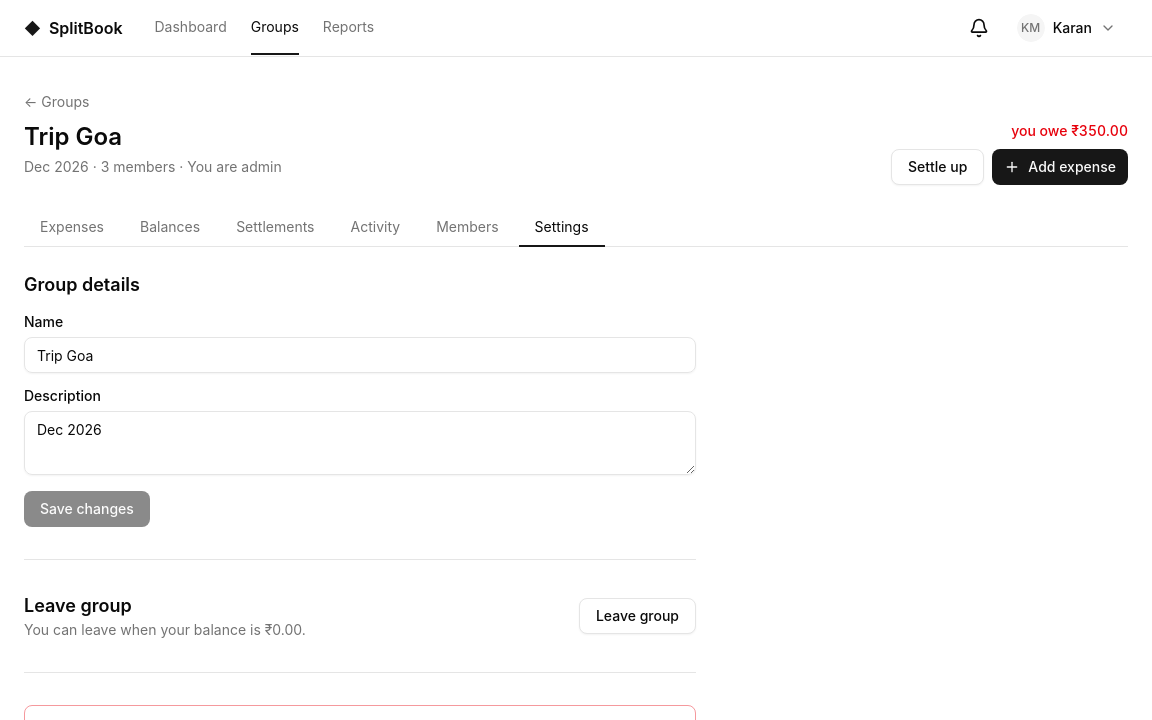
§6–§7 group, members, leave, delete › admin leave → transfer blocked while balance is not zero
Click the button "Leave group" at (637, 616), box [579,598,696,634]
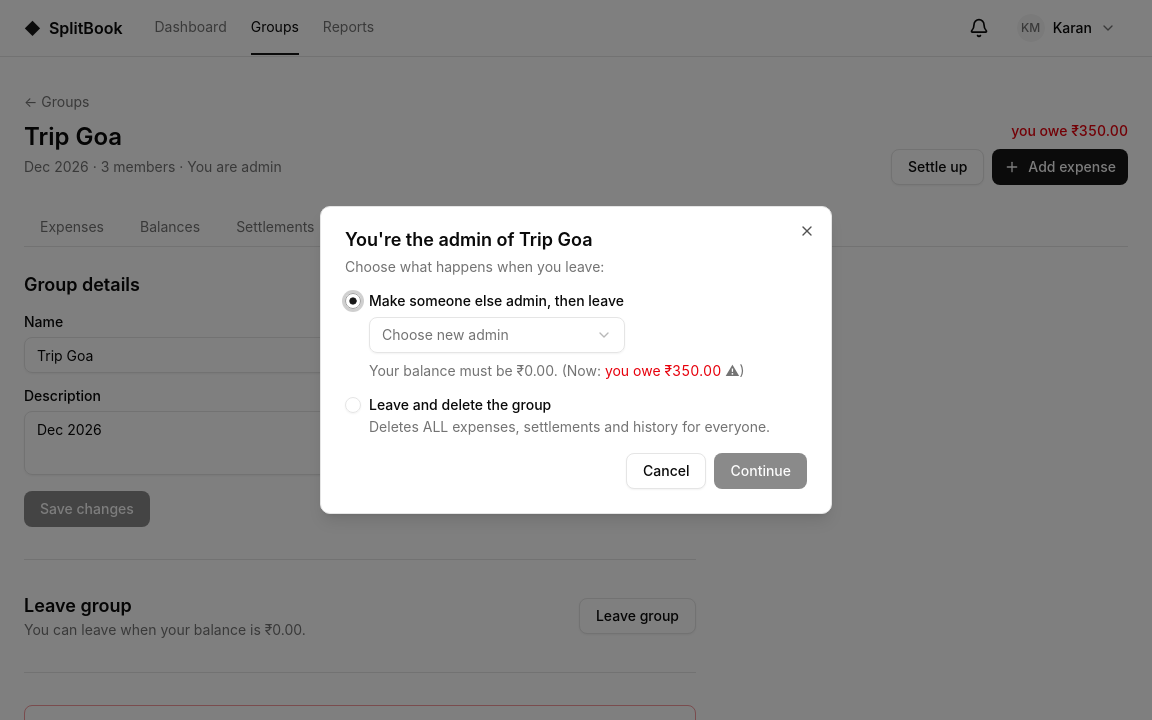
Expected: the heading "You're the admin of Trip Goa" is shown, [345,229,592,250]
Expected: the button "Continue" is disabled, [714,453,807,489]
